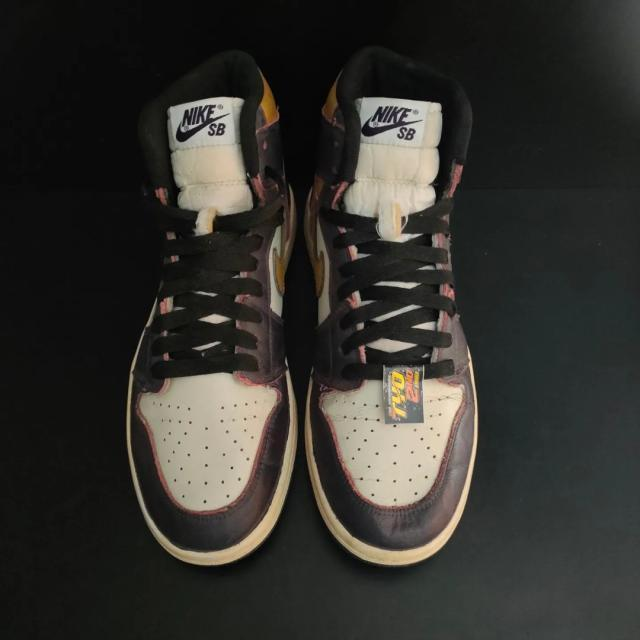nike fake jordan 1: (304, 52, 488, 566), (126, 52, 304, 568)
